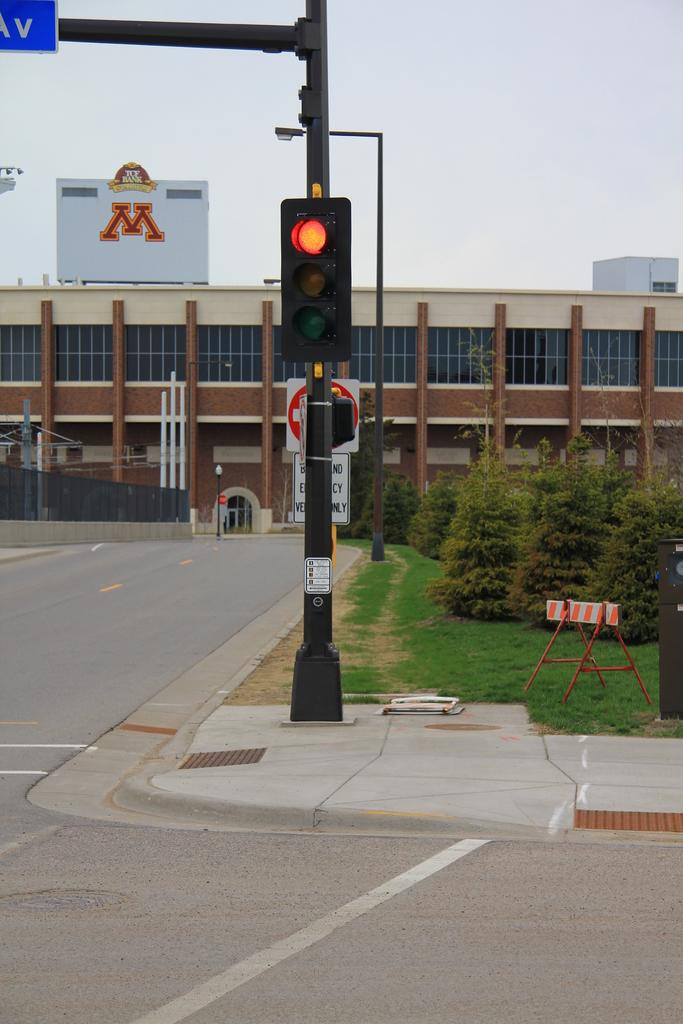red_light: (280, 197, 351, 360)
